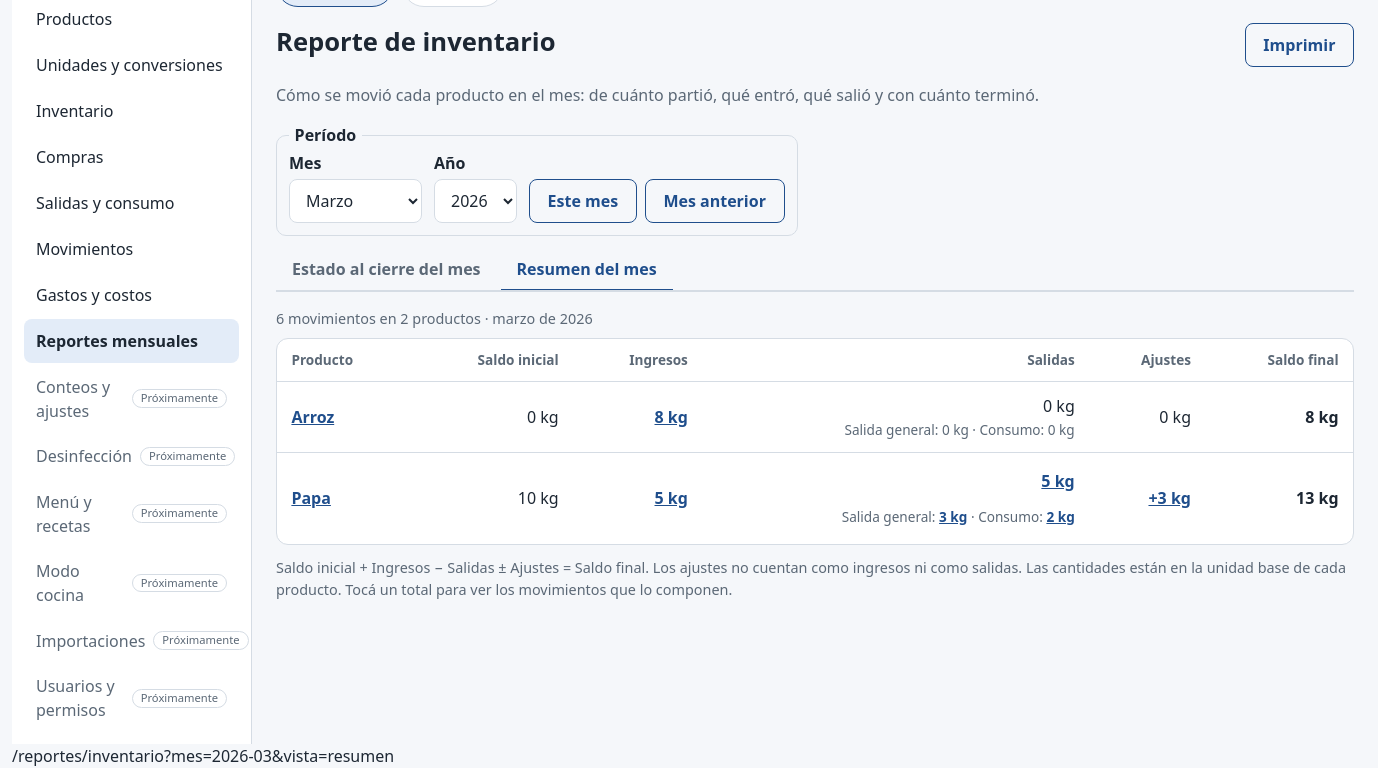
Test: resumen del mes › cada total abre los movimientos que lo componen, con el mismo producto y período
(page scrolled)
Expected: the table is shown, x1=277 y1=339 x2=1353 y2=544
Click the link with aria-label "Ver el ingreso de Papa".
click(671, 498)  # box x1=654 y1=481 x2=688 y2=516
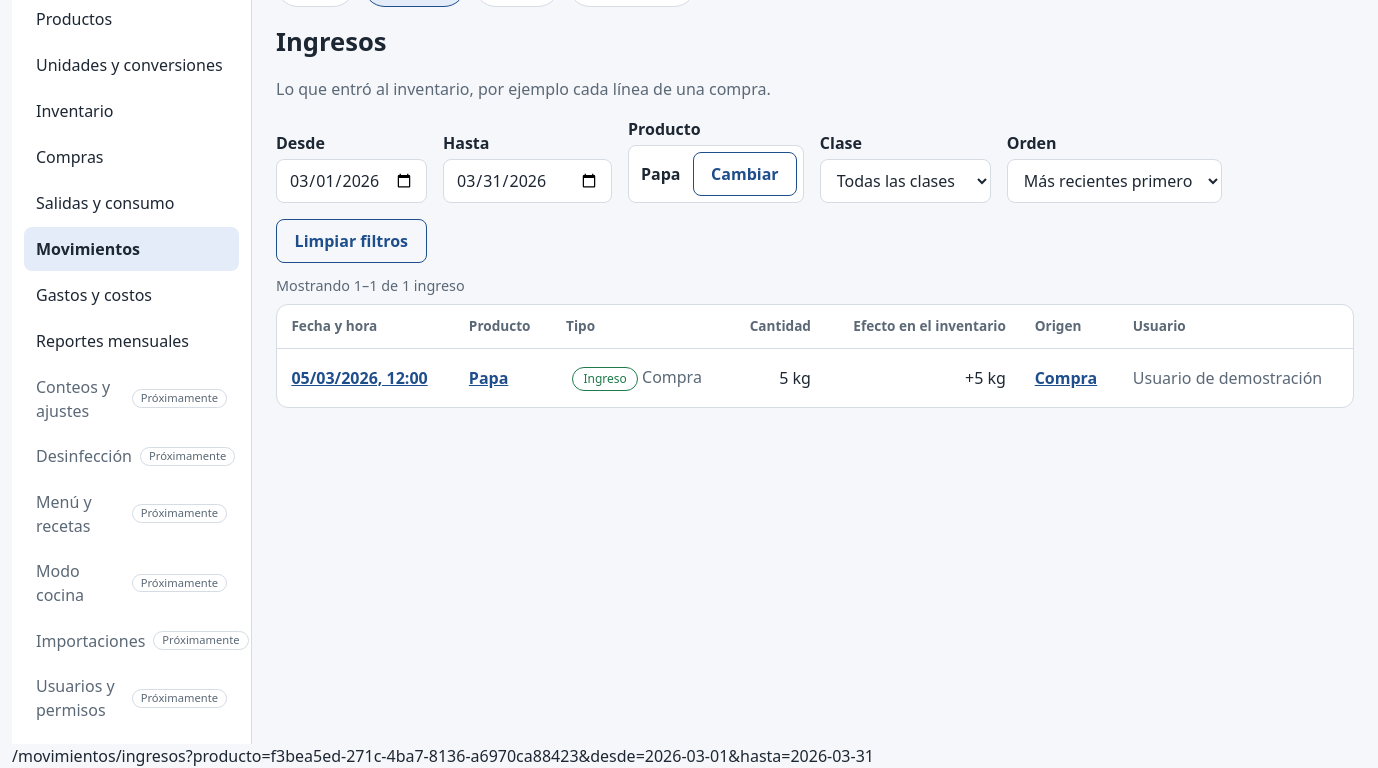
Result: the cell "+5 kg" is shown at x1=825 y1=349 x2=1020 y2=407
